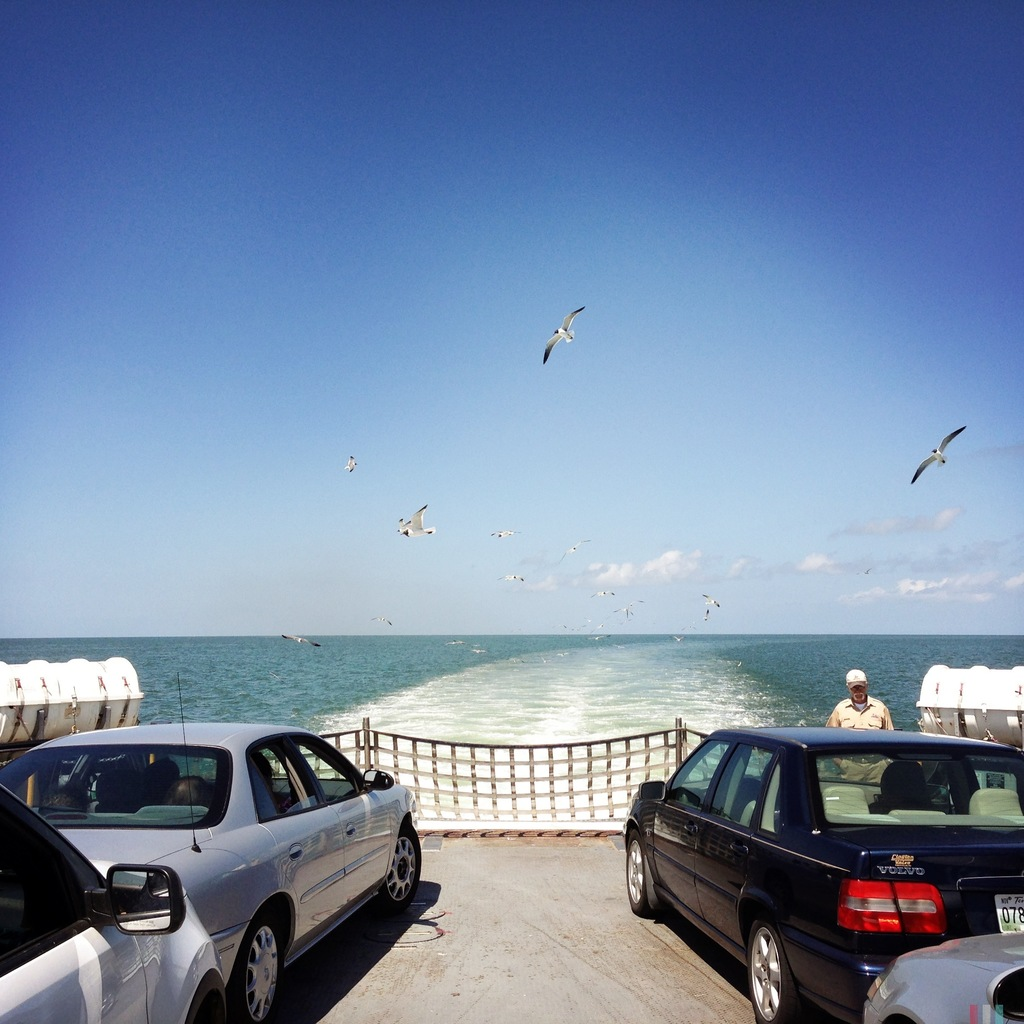Car: (0, 676, 423, 1023), (624, 727, 1023, 1023), (0, 783, 225, 1023), (864, 935, 1023, 1023)
